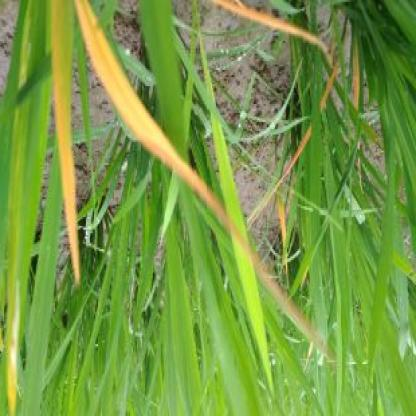Tungro: (46, 6, 87, 291)
